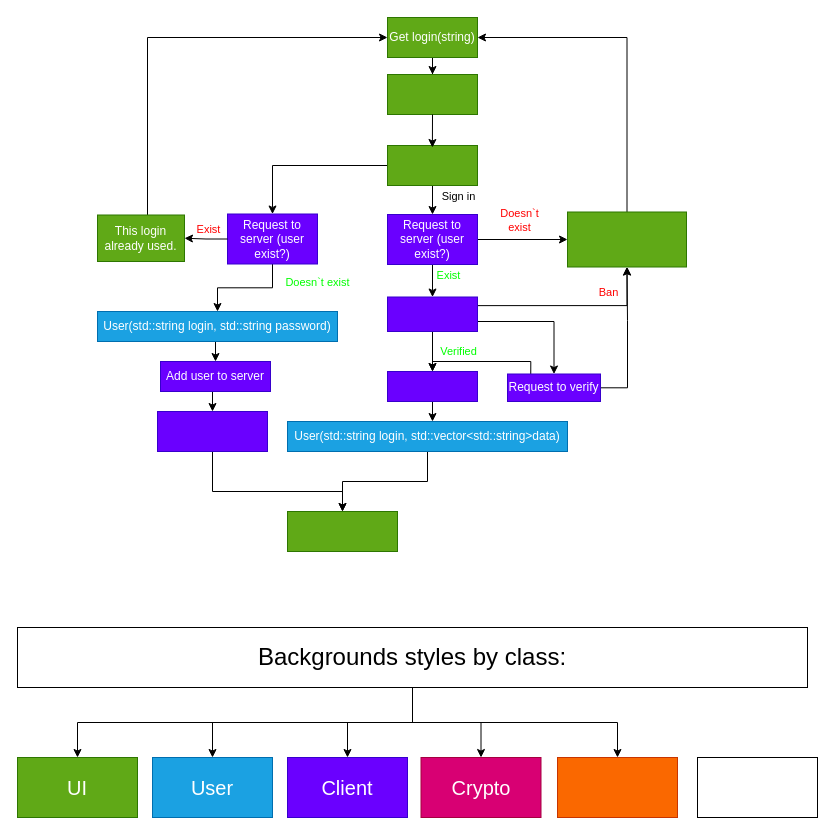
Image size: 835x835. Some labels were removed from this diagram. Here are the shapes that lost their labels. From the top down, the centre of each, then its label:
At [432,94]: "Get password(string)".
At [432,165]: "Sign in or registration".
At [626,239]: "Can`t sign to this account. Try again.".
At [432,314]: "Check device".
At [432,386]: "Get data from server".
At [212,431]: "Add device to verified list".
At [342,531]: "Set user".
